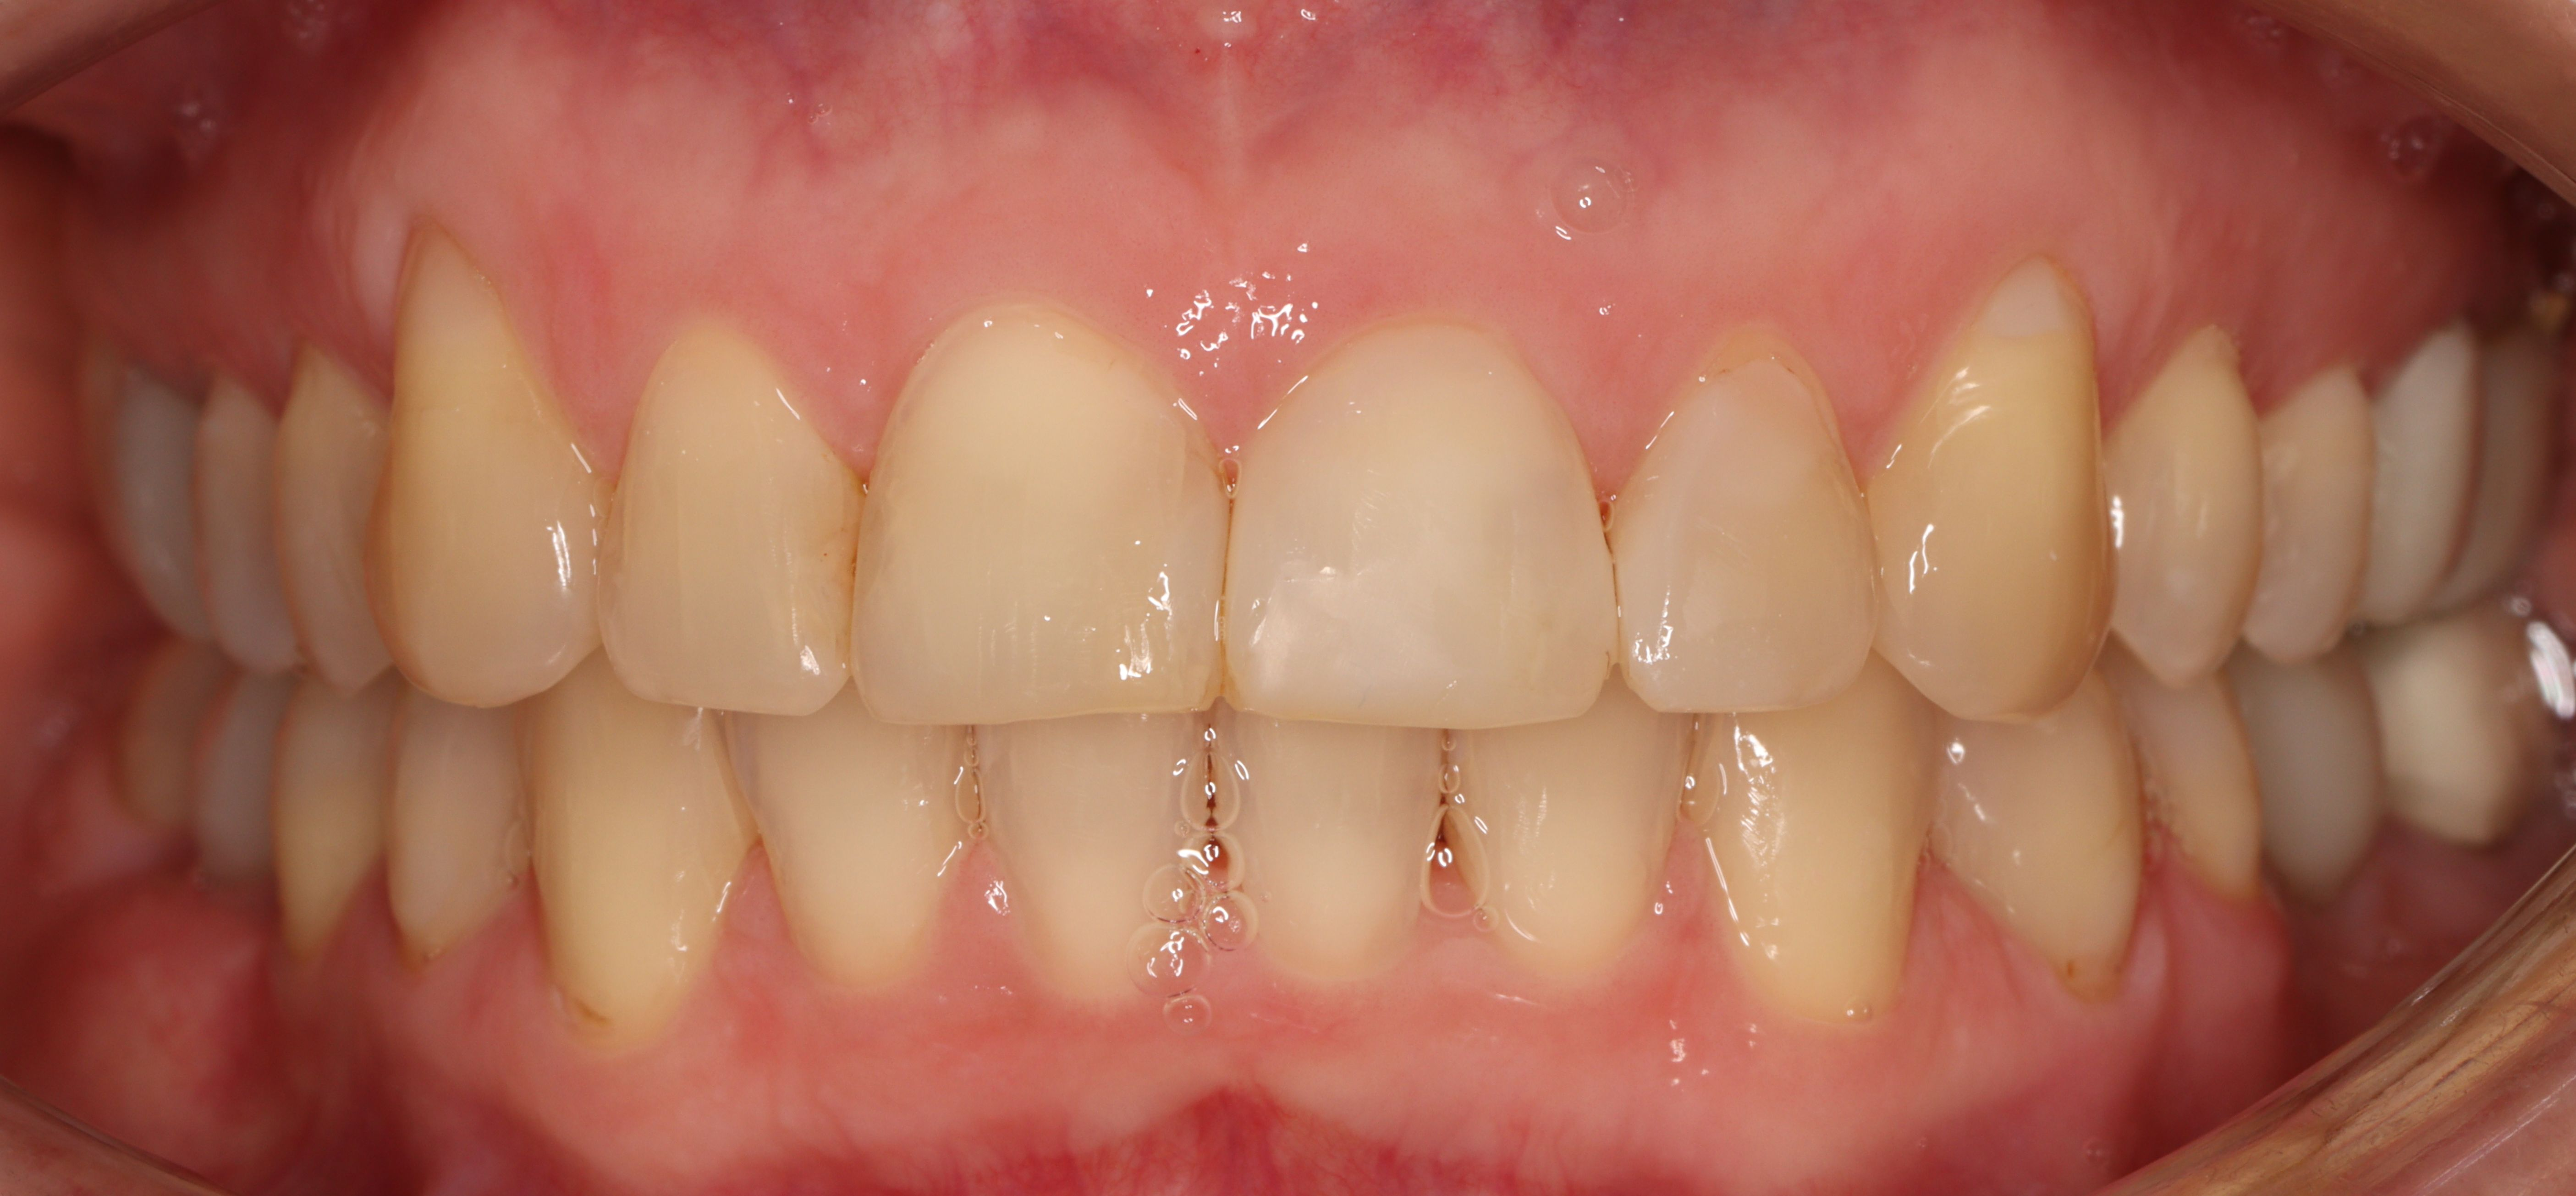LL1BC_healthy: (1927, 720, 2141, 987)
LL1M_healthy: (2261, 664, 2385, 894)
LL2BC_healthy: (2146, 682, 2262, 913)
LL2M_healthy: (2382, 616, 2551, 844)
LLCI_healthy: (1211, 729, 1442, 978)
LLC_healthy: (1695, 718, 1932, 1012)
LLLI_healthy: (1449, 728, 1692, 974)
LR1BC_healthy: (381, 706, 524, 951)
LR1M_healthy: (191, 682, 274, 885)
LR2BC_healthy: (271, 700, 381, 946)
LRCI_healthy: (977, 724, 1216, 996)
LRC_healthy: (524, 705, 723, 1028)
LRLI_healthy: (718, 715, 977, 978)
UL1BC_healthy: (2118, 333, 2257, 678)
UL1M_healthy: (2376, 329, 2477, 616)
UL2BC_healthy: (2262, 366, 2371, 660)
UL2M_healthy: (2469, 335, 2543, 583)
ULCI_healthy: (1229, 324, 1617, 728)
ULC_healthy: (1878, 261, 2116, 720)
ULLI_healthy: (1618, 353, 1881, 715)
UR1BC_healthy: (271, 356, 384, 683)
UR1M_healthy: (80, 356, 192, 639)
UR2BC_healthy: (192, 381, 274, 672)
URCI_healthy: (853, 315, 1227, 723)
URC_healthy: (373, 233, 603, 705)
URLI_healthy: (598, 333, 848, 718)
